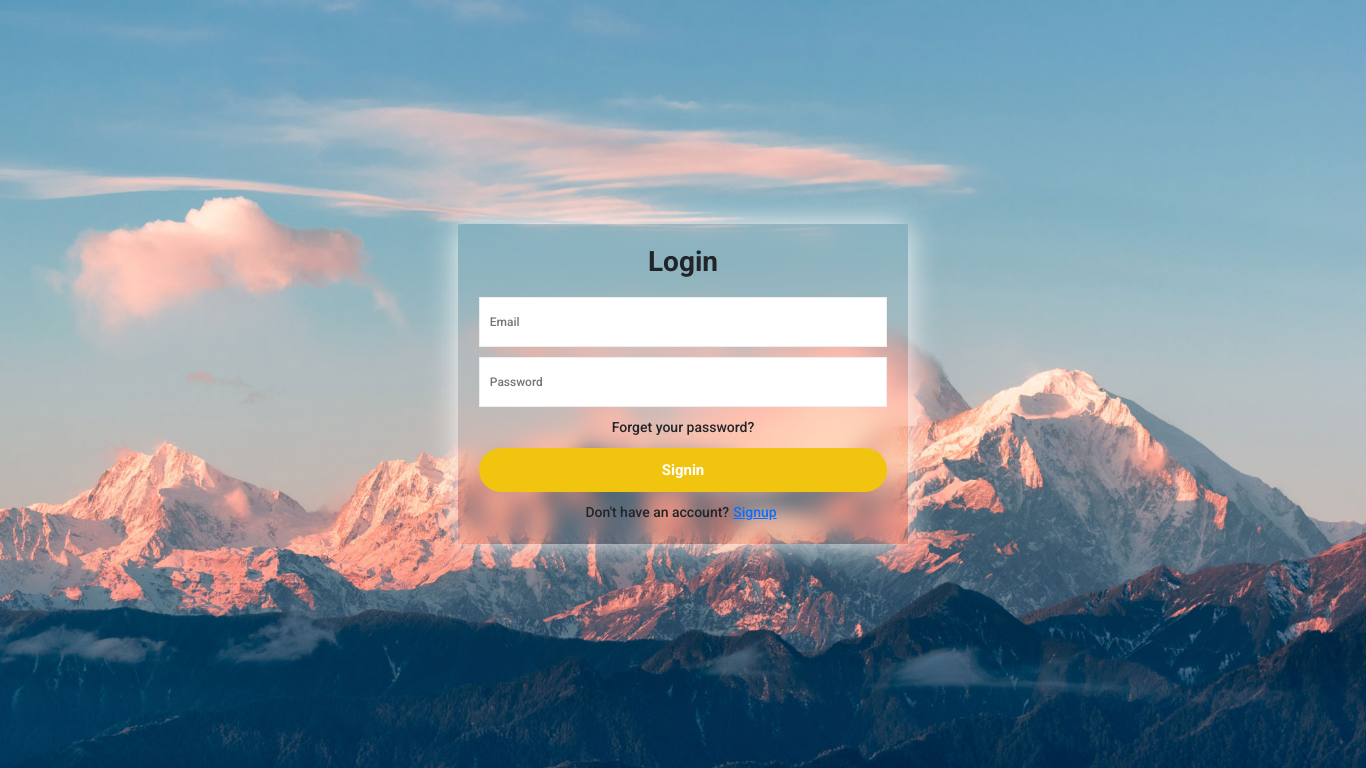
App component › renders signup form on /signup route
Click the link "Signup" at coordinates (755, 512), box 733,504 -> 777,520
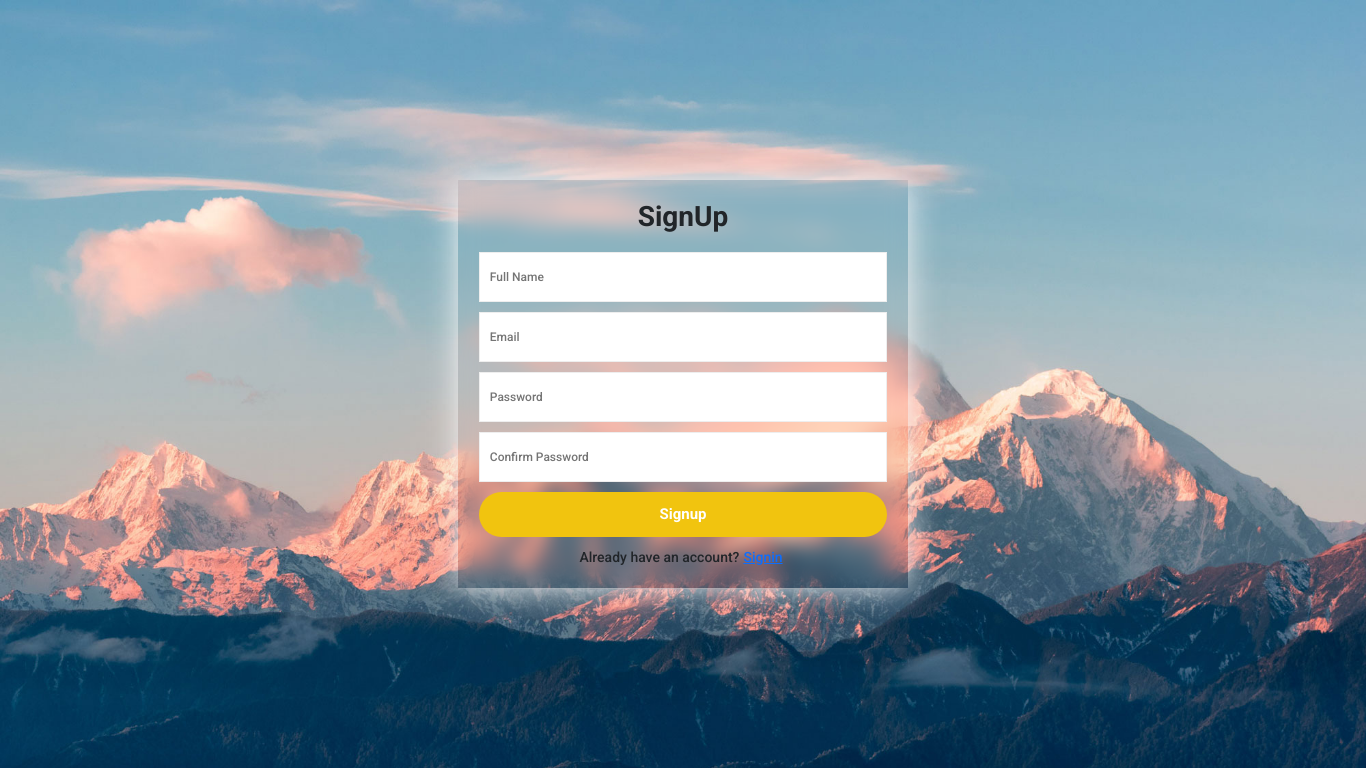
Expected: the button "Signup" is shown, 479,492 -> 887,536
